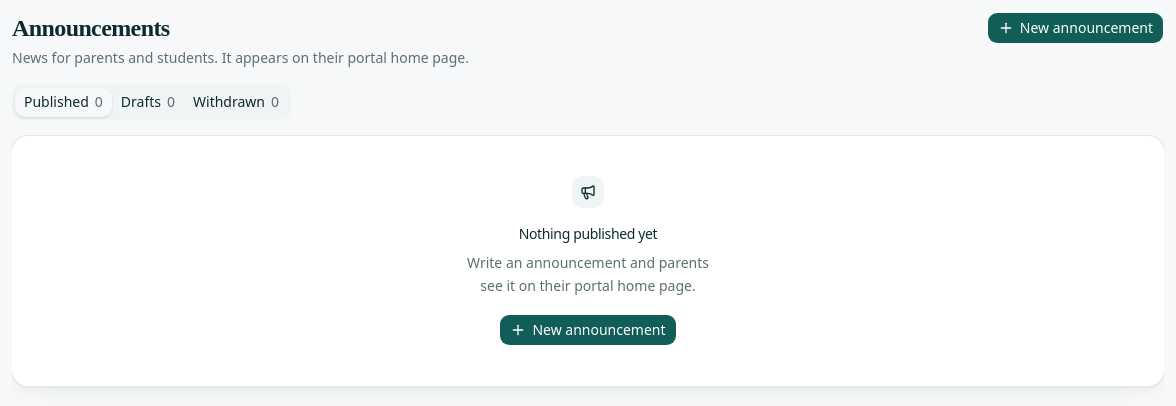
Scenario: AnnouncementsPage list › shows the Drafts empty state
Click the tab "Drafts 0" at (148, 102), box 112,88 -> 184,116
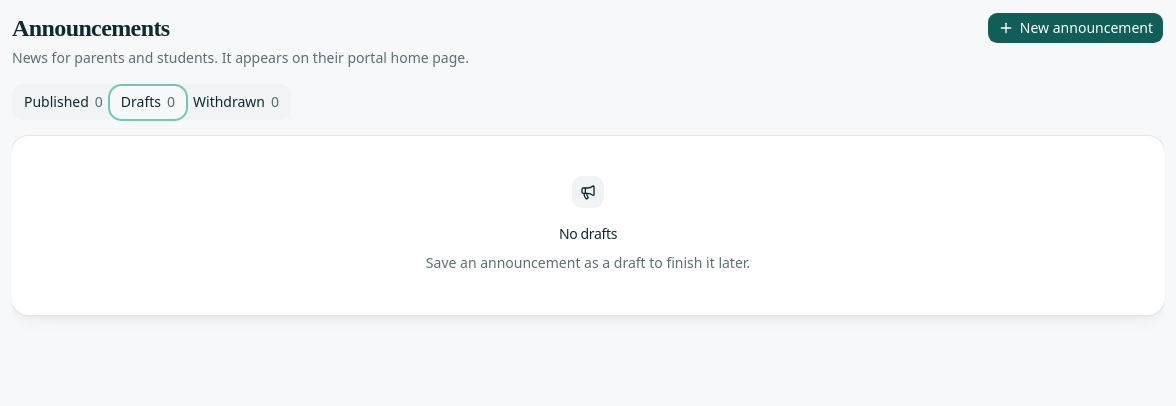
Result: the text "No drafts" is shown at 559,224 -> 617,244
